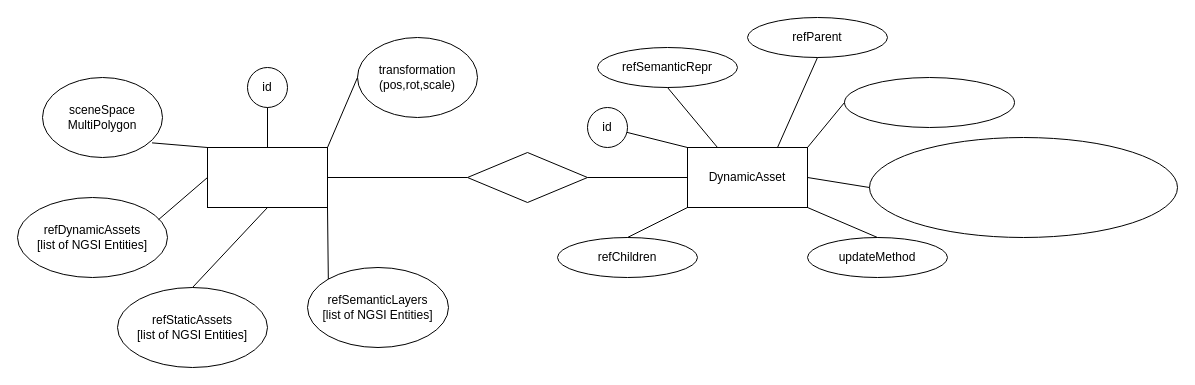
The diagram is 1195 pixels wide and 385 high, and some of its shapes have lost their labels. Each missing label, with the centre of its shape:
contains: the point at 527,177
resourceLink list of Representations: the point at 929,102
Scene Descriptor: the point at 267,177
spatialInfo { geopose {pos,angles} , updateMethod }: the point at 1023,187
